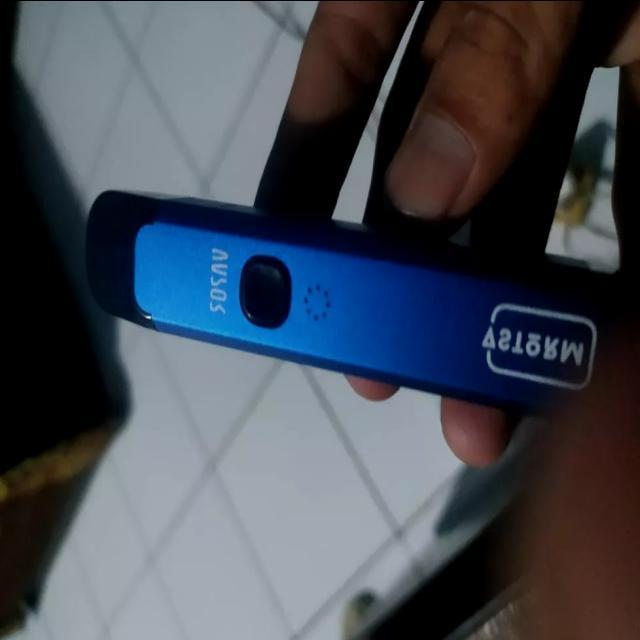Hazard: (81, 187, 608, 416)
